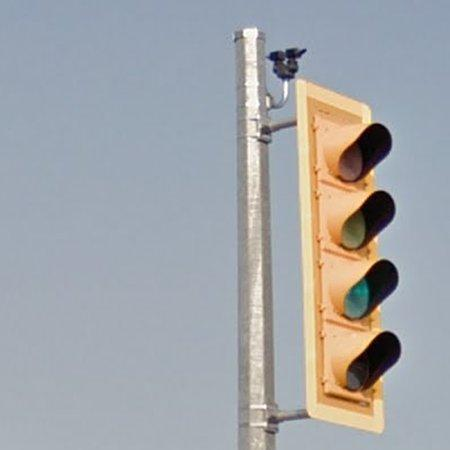traffic lights: (298, 82, 402, 433)
